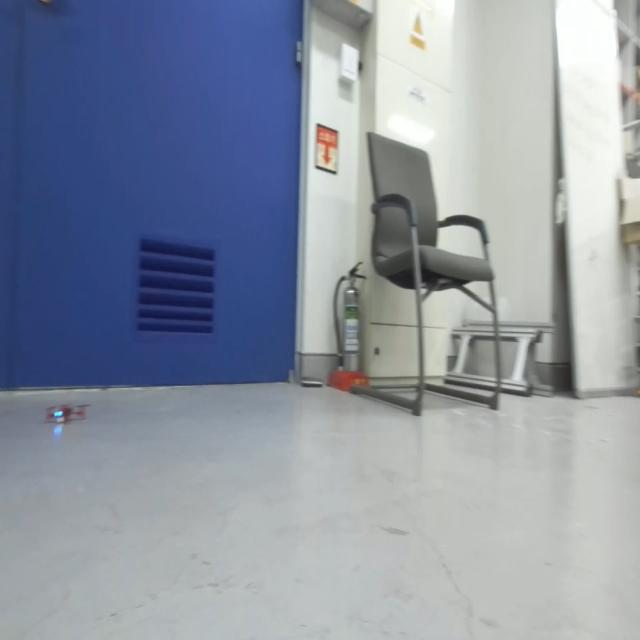crazyflie: (42, 398, 90, 429)
